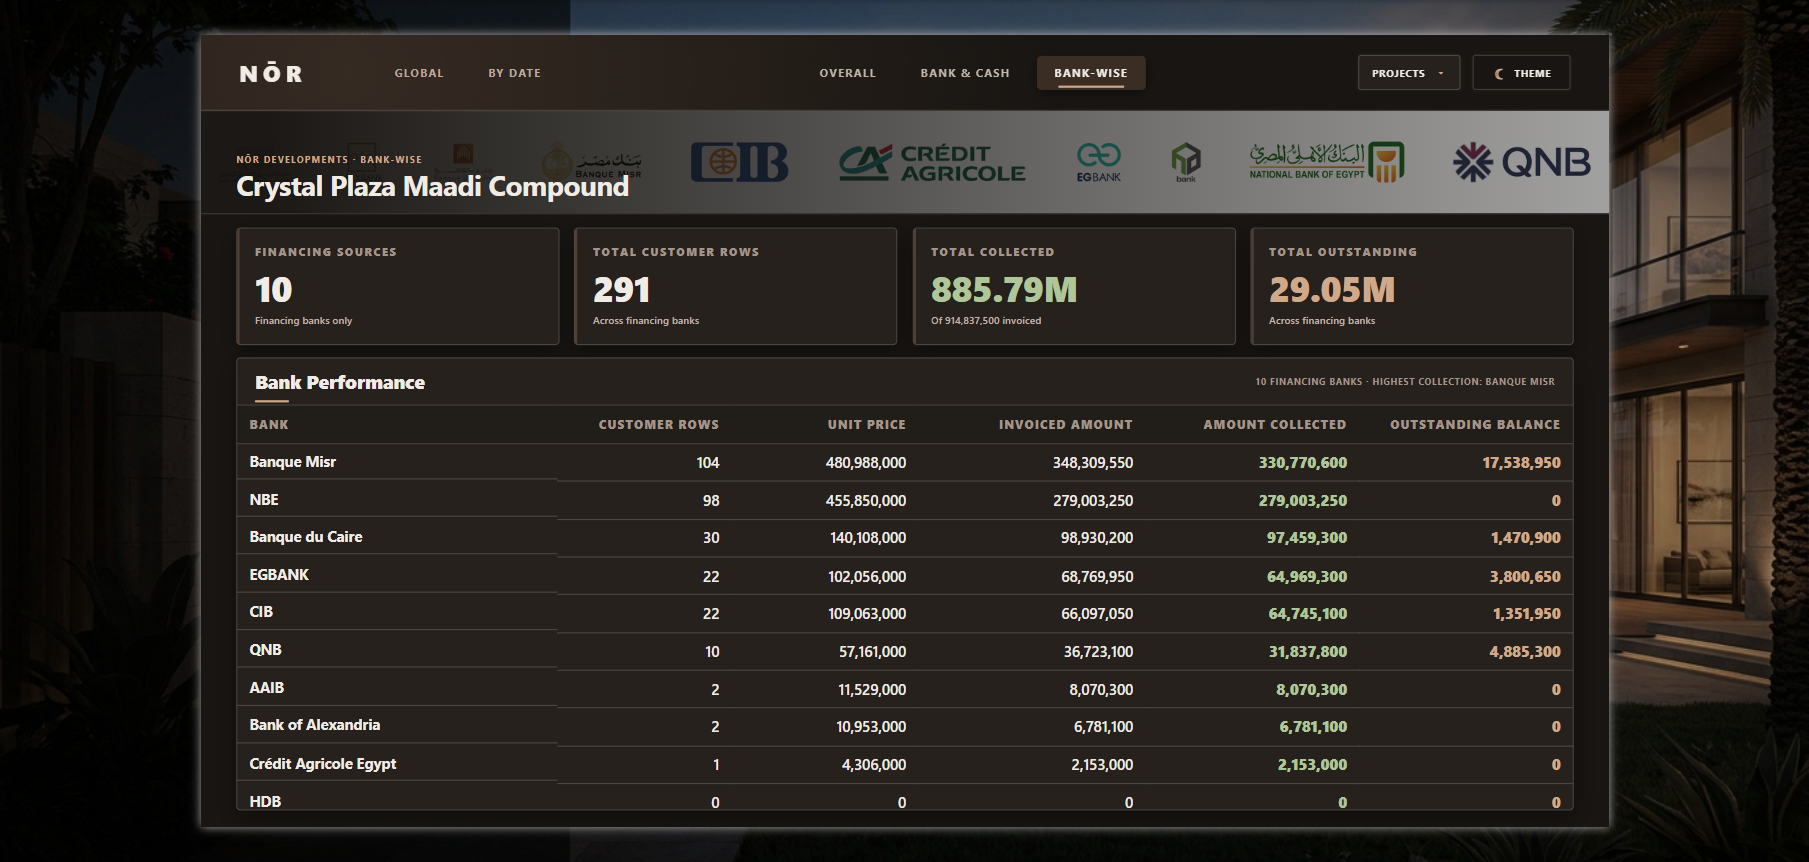

This screenshot's page, from the dashboard's own definition file:
{"tool":"powerbi","page":{"name":"Crystal Plaza Maadi","canvas":[1280,720],"ordinal":3},"visuals":[{"type":"htmlContent443BE3AD55E043BF878BED274D3A6855","fields":{"content":["HTML Visuals.HTML_CrystalPlaza_OnePage"]},"box":[0,0,1280,720],"z":0}]}

Visuals, with their boxes on the page's 1280x720 design canvas (x1, y1, x2, y2). These are canvas units, not pixel positions in the 1809x862 screenshot, which may show the page scaled, cropped or inside an application window:
htmlContent443BE3AD55E043BF878BED274D3A6855 - HTML Visuals.HTML_CrystalPlaza_OnePage: 0,0,1280,720
